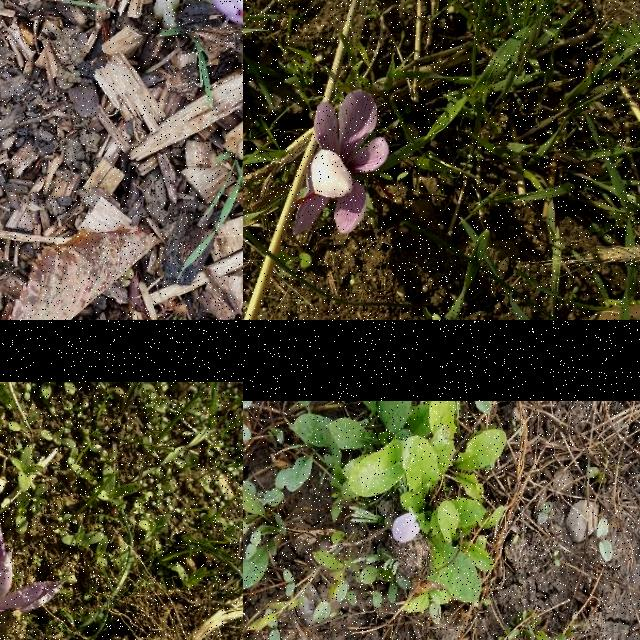flower: (292, 90, 391, 236), (0, 528, 61, 613), (392, 514, 420, 542), (210, 0, 243, 23)
